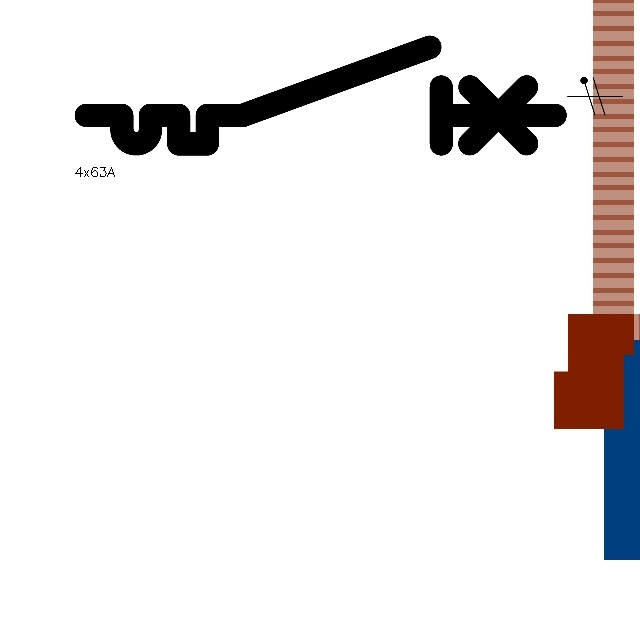interruptor_termomagnetico: (74, 35, 567, 156)
